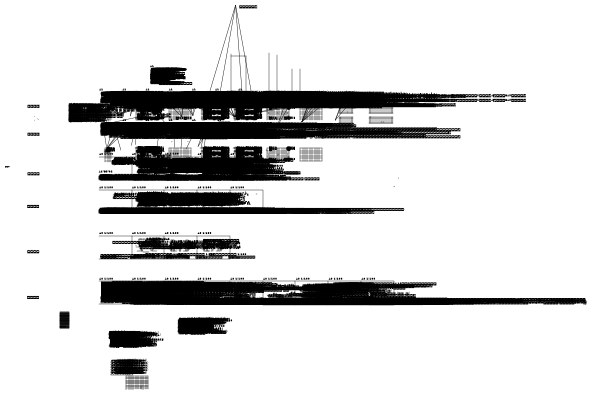corridor: (148, 300, 149, 304), (178, 300, 179, 304), (212, 293, 213, 297), (158, 301, 159, 304), (158, 296, 159, 299), (212, 300, 213, 303), (507, 292, 507, 295)
room: (321, 260, 332, 265), (175, 104, 180, 107), (507, 292, 511, 295), (344, 266, 348, 269), (166, 95, 169, 98), (176, 104, 179, 107), (216, 294, 218, 297), (267, 301, 269, 304), (159, 292, 162, 294), (209, 182, 212, 184), (258, 182, 261, 184), (241, 135, 244, 137), (307, 182, 310, 184), (195, 295, 197, 297), (148, 300, 149, 304), (156, 52, 158, 54), (269, 62, 271, 64), (273, 62, 275, 64), (278, 62, 280, 64), (282, 62, 284, 64), (145, 296, 148, 297), (158, 301, 159, 304), (158, 296, 159, 299), (212, 300, 213, 303), (200, 217, 203, 218), (192, 136, 195, 137), (250, 217, 253, 218), (299, 217, 302, 218), (195, 292, 197, 293), (195, 294, 197, 295), (195, 293, 197, 294), (185, 303, 187, 304), (185, 302, 187, 303), (182, 303, 184, 304), (182, 301, 184, 302), (321, 268, 323, 269), (175, 106, 177, 107), (276, 65, 278, 66), (276, 62, 277, 64), (157, 292, 158, 294), (158, 292, 159, 294), (217, 301, 219, 302), (209, 182, 211, 183), (195, 303, 197, 304), (195, 299, 197, 300), (195, 301, 197, 302), (195, 300, 197, 301), (188, 303, 189, 304), (187, 303, 188, 304), (188, 302, 189, 303), (187, 302, 188, 303), (508, 293, 509, 294), (144, 296, 145, 297), (147, 296, 148, 297), (222, 296, 223, 297), (221, 296, 222, 297), (220, 296, 221, 297), (219, 296, 220, 297), (219, 293, 220, 294), (321, 268, 322, 269), (177, 105, 178, 106), (176, 106, 177, 107), (275, 65, 276, 66), (157, 300, 158, 301), (157, 295, 158, 296), (161, 293, 162, 294), (212, 299, 213, 300), (221, 302, 222, 303), (219, 302, 220, 303), (220, 302, 221, 303), (222, 302, 223, 303), (201, 217, 202, 218), (160, 183, 161, 184), (187, 303, 187, 304), (185, 303, 185, 304), (178, 300, 179, 300), (188, 304, 189, 304), (187, 304, 187, 304), (185, 304, 185, 304), (185, 304, 187, 304), (187, 304, 188, 304), (187, 302, 187, 303), (185, 302, 185, 303), (506, 292, 507, 292), (144, 295, 144, 296), (144, 296, 144, 297), (219, 296, 219, 297), (212, 293, 213, 293), (222, 297, 223, 297), (220, 297, 221, 297), (219, 297, 219, 297), (219, 297, 220, 297), (221, 297, 222, 297), (222, 295, 223, 295), (221, 295, 222, 295), (220, 295, 221, 295), (219, 295, 220, 295), (219, 295, 219, 295), (250, 293, 252, 293), (321, 269, 322, 269), (321, 261, 323, 261), (157, 292, 158, 292), (223, 302, 223, 302), (222, 302, 223, 302), (221, 302, 222, 302), (220, 302, 221, 302), (219, 302, 220, 302), (223, 302, 223, 303), (193, 136, 195, 136), (163, 217, 164, 217), (144, 136, 144, 137)
wall: (157, 262, 168, 266), (213, 269, 224, 273), (213, 264, 224, 268), (213, 260, 224, 264), (248, 260, 259, 264), (178, 269, 189, 273), (178, 265, 189, 268), (178, 261, 189, 264), (246, 291, 257, 292), (226, 292, 236, 293), (178, 300, 179, 304), (212, 293, 213, 297), (506, 292, 507, 295), (178, 105, 179, 108), (157, 301, 158, 304), (157, 296, 158, 299), (148, 302, 149, 304), (168, 106, 169, 108), (167, 103, 169, 104), (159, 270, 160, 271), (230, 270, 231, 271), (250, 270, 251, 271), (264, 270, 265, 271), (285, 266, 286, 267), (299, 270, 300, 271), (299, 263, 300, 264), (146, 271, 147, 272), (250, 262, 251, 263), (146, 265, 147, 266), (169, 107, 170, 108), (167, 107, 168, 108), (509, 105, 510, 106), (195, 270, 195, 271), (195, 263, 195, 264), (507, 292, 507, 295), (168, 96, 168, 97), (167, 106, 169, 106), (144, 91, 153, 91), (155, 91, 162, 91)
